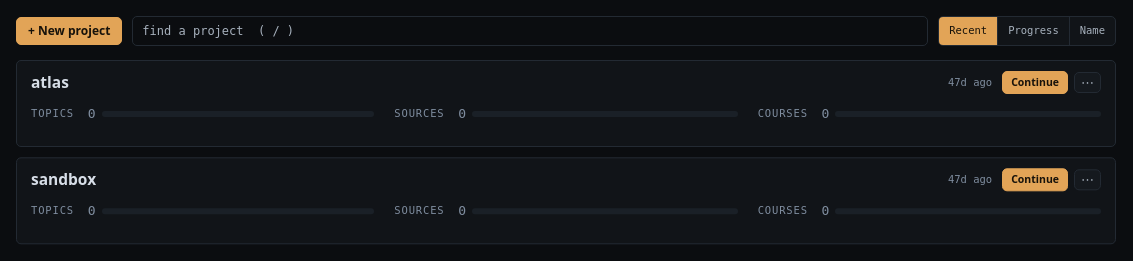
Test case: filters projects by name
The image size is (1133, 261).
Check: the link "atlas" is shown, box [31,71,69,94]
Type "sand" into the search field labelled "find a project ( / )".
click(530, 31); type("sand")  # box [132,16,928,46]
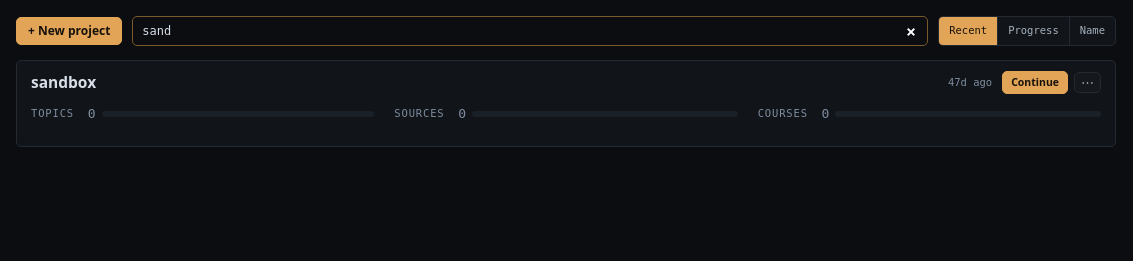
Check: the link "sandbox" is shown, box [31,71,96,94]
Check: the link "atlas" is gone
